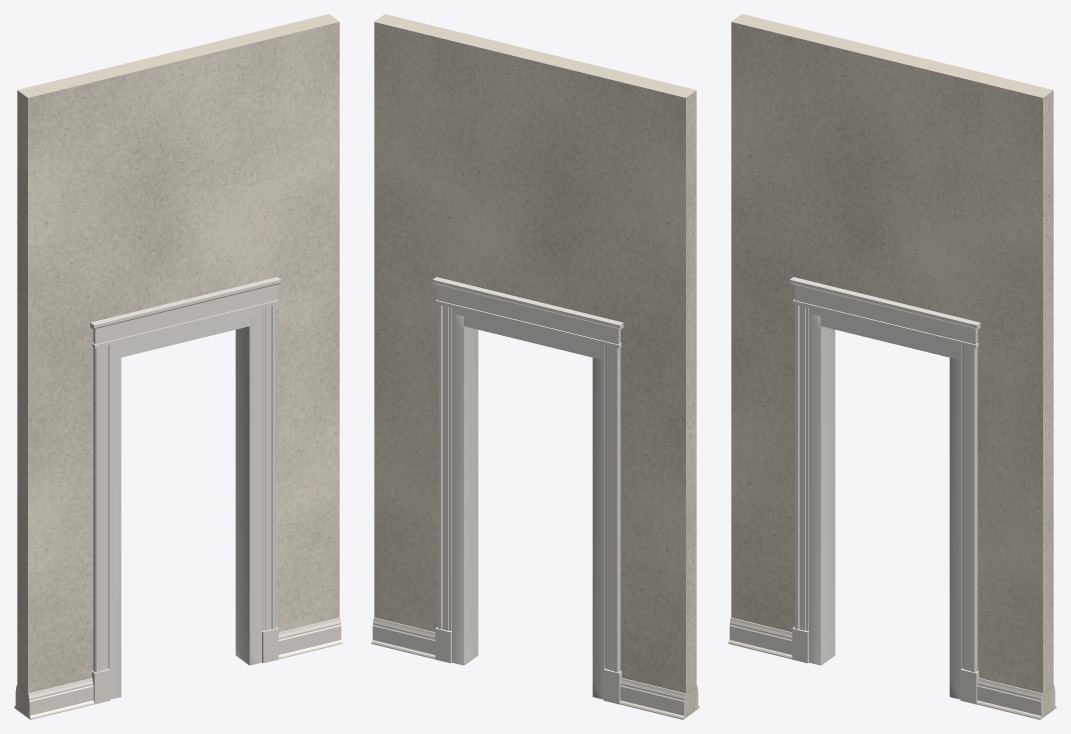
File: interior_wall_doorway_shop.glb
3 renders of one model, left to right at view 1: azimuth 30°, elevation 25°; view 2: azimuth 150°, elevation 25°; view 3: azimuth 330°, elevation 25°, orthographic.
Visible parts, largest first — view 1: interior_wall_doorway_shop_plaster, molduras, interior_wall_doorway_shop_frame; view 2: interior_wall_doorway_shop_plaster, molduras, interior_wall_doorway_shop_frame; view 3: interior_wall_doorway_shop_plaster, molduras, interior_wall_doorway_shop_frame.
Part boxes in pixels (x1,y1,x2,y2): interior_wall_doorway_shop_plaster: [17, 14, 339, 717]; molduras: [14, 277, 342, 719]; interior_wall_doorway_shop_frame: [108, 308, 261, 699]; interior_wall_doorway_shop_plaster: [374, 14, 696, 717]; molduras: [371, 277, 699, 719]; interior_wall_doorway_shop_frame: [452, 308, 605, 699]; interior_wall_doorway_shop_plaster: [731, 14, 1053, 717]; molduras: [728, 277, 1056, 719]; interior_wall_doorway_shop_frame: [809, 308, 962, 699].
Size of the model in its own units: 2 by 3.8 by 0.204.
3 materials, 1 textured.
